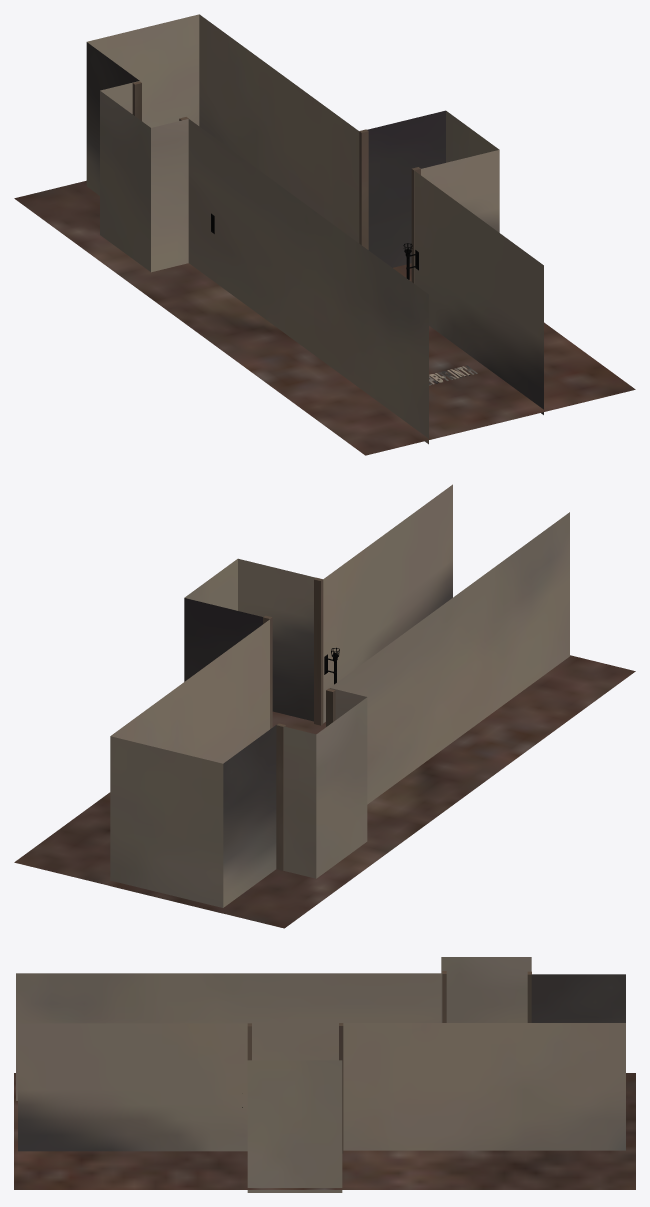
Rendered from CL_Menu_v1.fbx.
3 renders of one model, top to bottom at view 1: azimuth 30°, elevation 25°; view 2: azimuth 150°, elevation 25°; view 3: azimuth 270°, elevation 25°, orthographic. The views are drawn at different scales.
Visible parts, largest first — view 1: Set; view 2: Set; view 3: Set.
Boxes of the visible parts, x1,y1,x2,y2 form: Set: [14, 14, 635, 455]; Set: [14, 484, 635, 928]; Set: [14, 957, 635, 1192].
Bounding box in the file's own units: 1400 × 760 × 3152.
6 materials, 5 textured.
